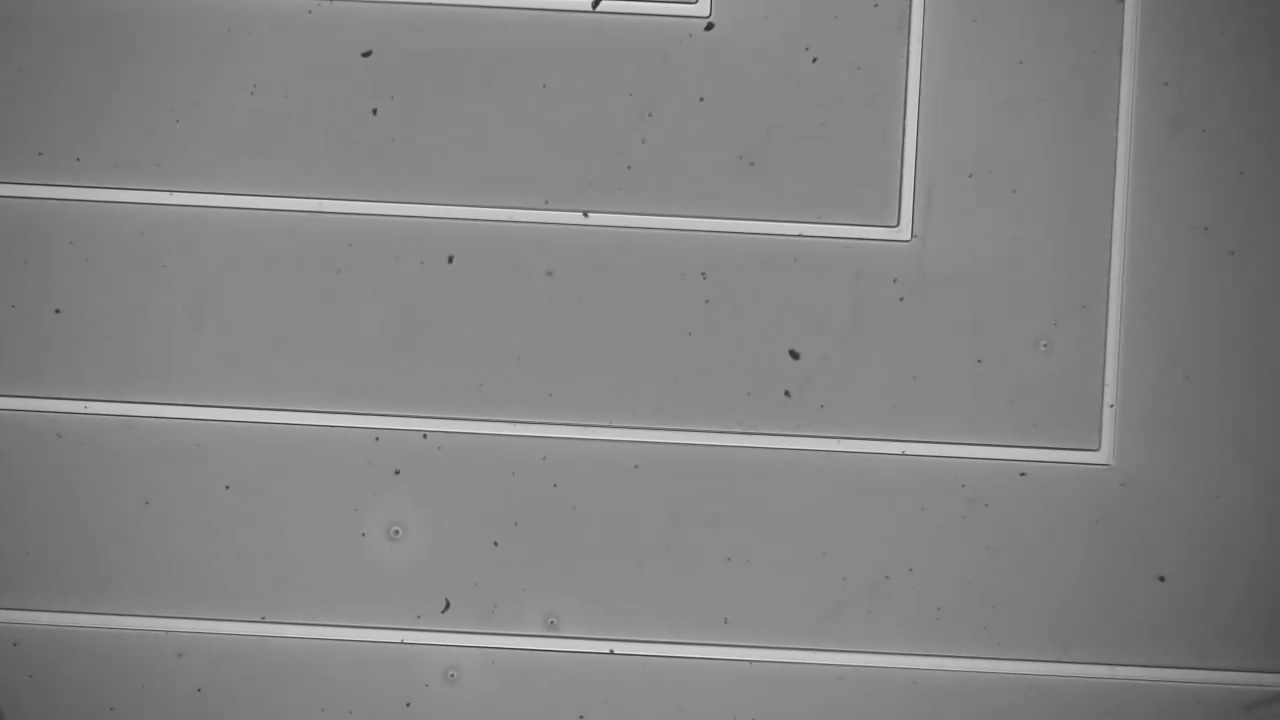stains_enbedded: (582, 0, 609, 21)
